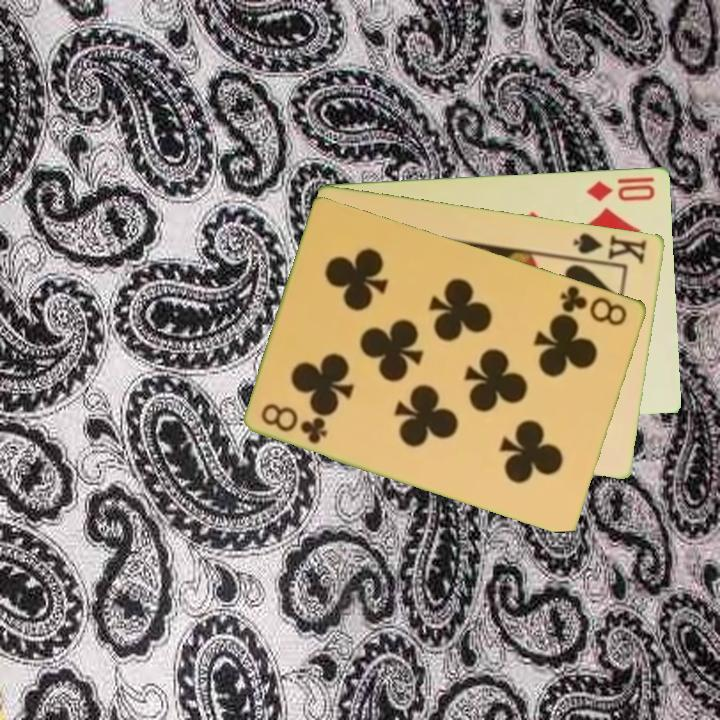10d: (584, 177, 658, 204)
8c: (258, 399, 331, 447), (557, 282, 631, 329)
Ks: (568, 229, 650, 268)
